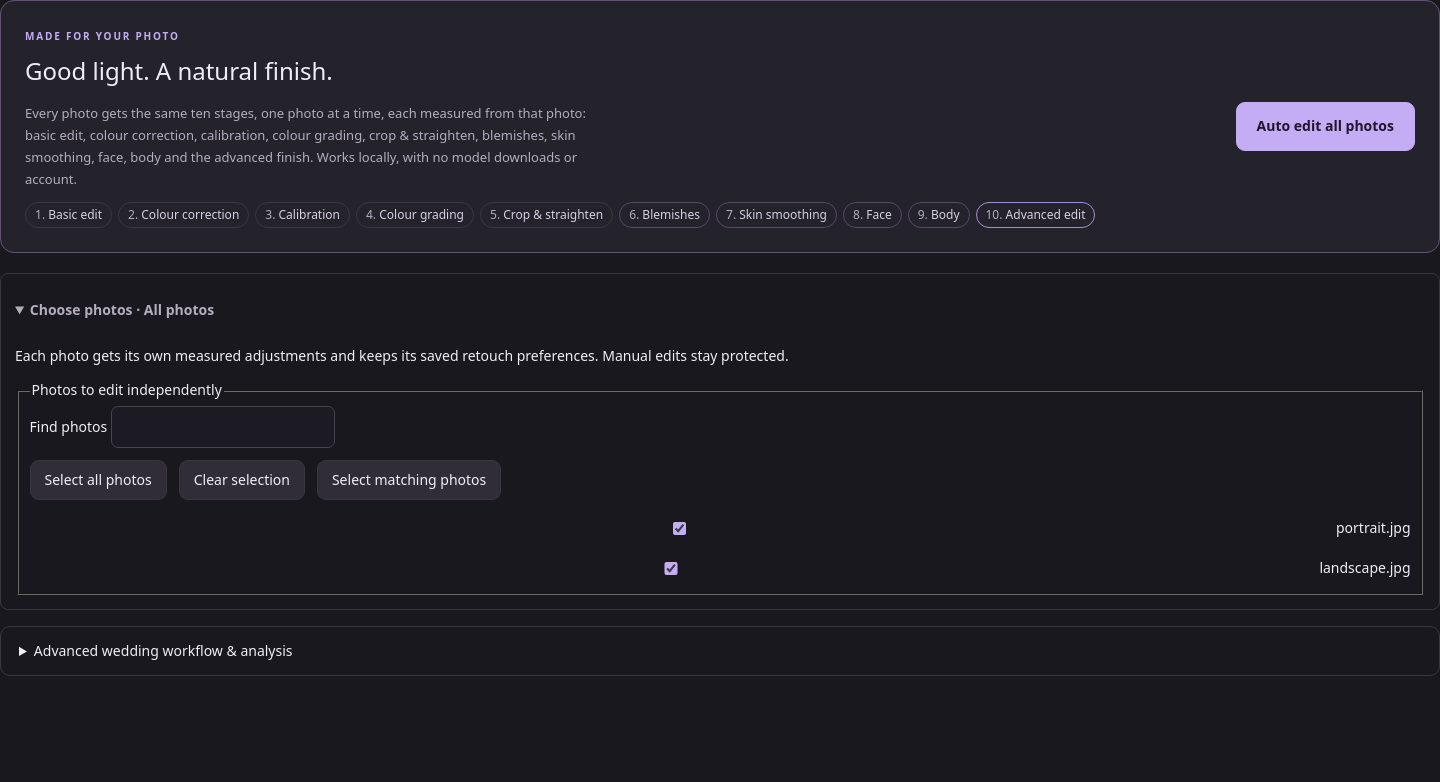
Scenario: sends the selected photo IDs to editing and prevents an empty batch
Click the checkbox labelled "portrait.jpg".
click(679, 528)  # box left=34, top=522, right=1325, bottom=535
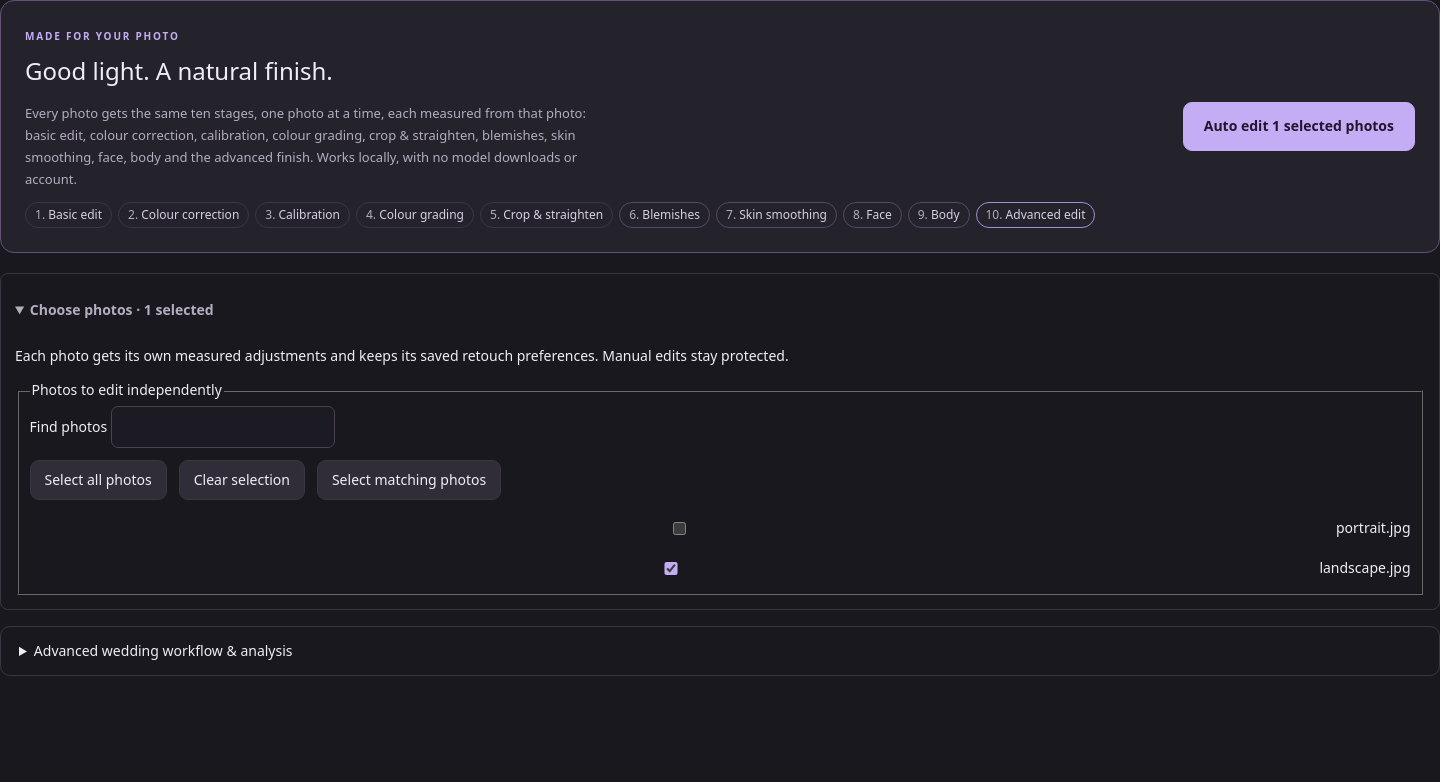
Click the button "Auto edit 1 selected photos".
click(1299, 126)  # box left=1183, top=102, right=1415, bottom=151
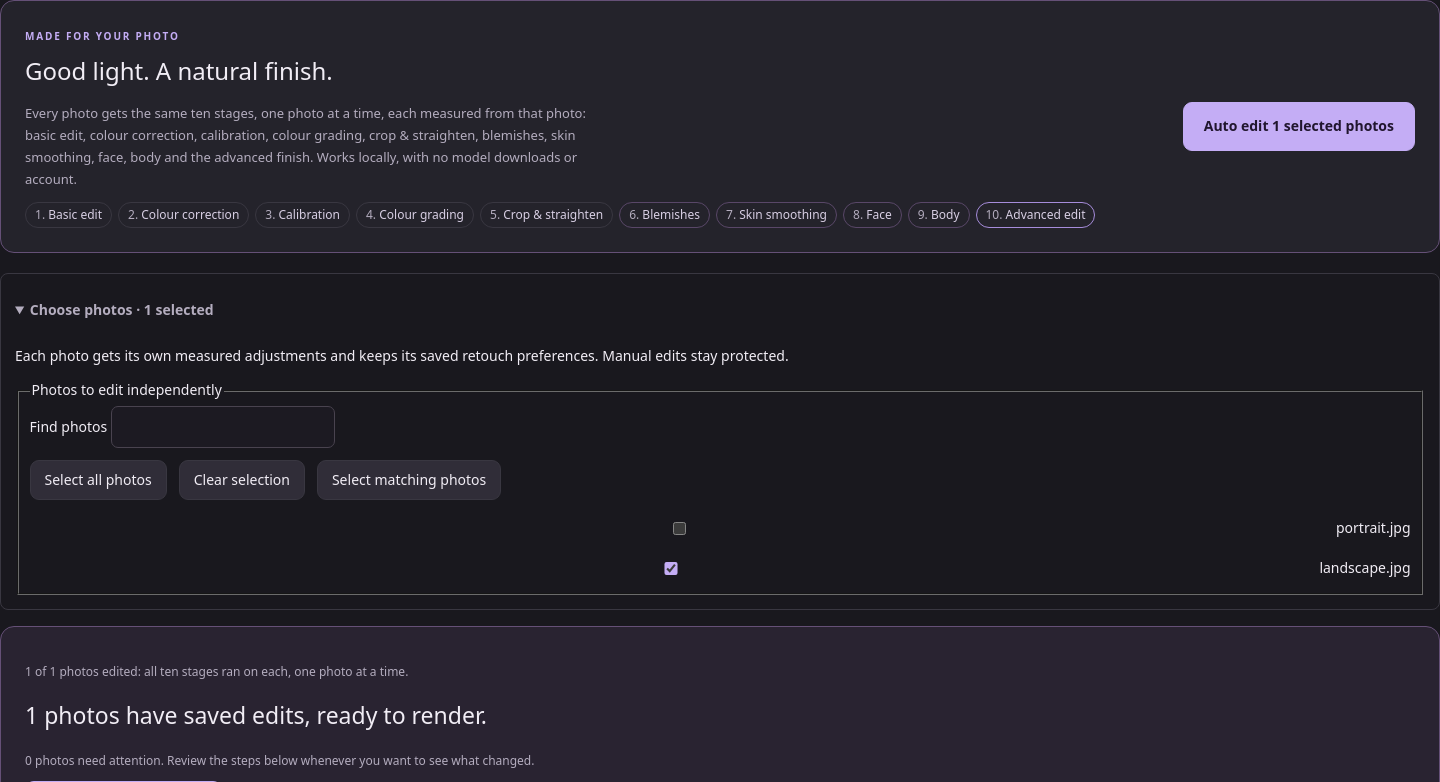
expect the heading "1 photos have saved edits, ready to render." is shown: met, box left=25, top=700, right=487, bottom=732
Click the button "Clear selection".
click(242, 480)  # box left=179, top=460, right=305, bottom=500
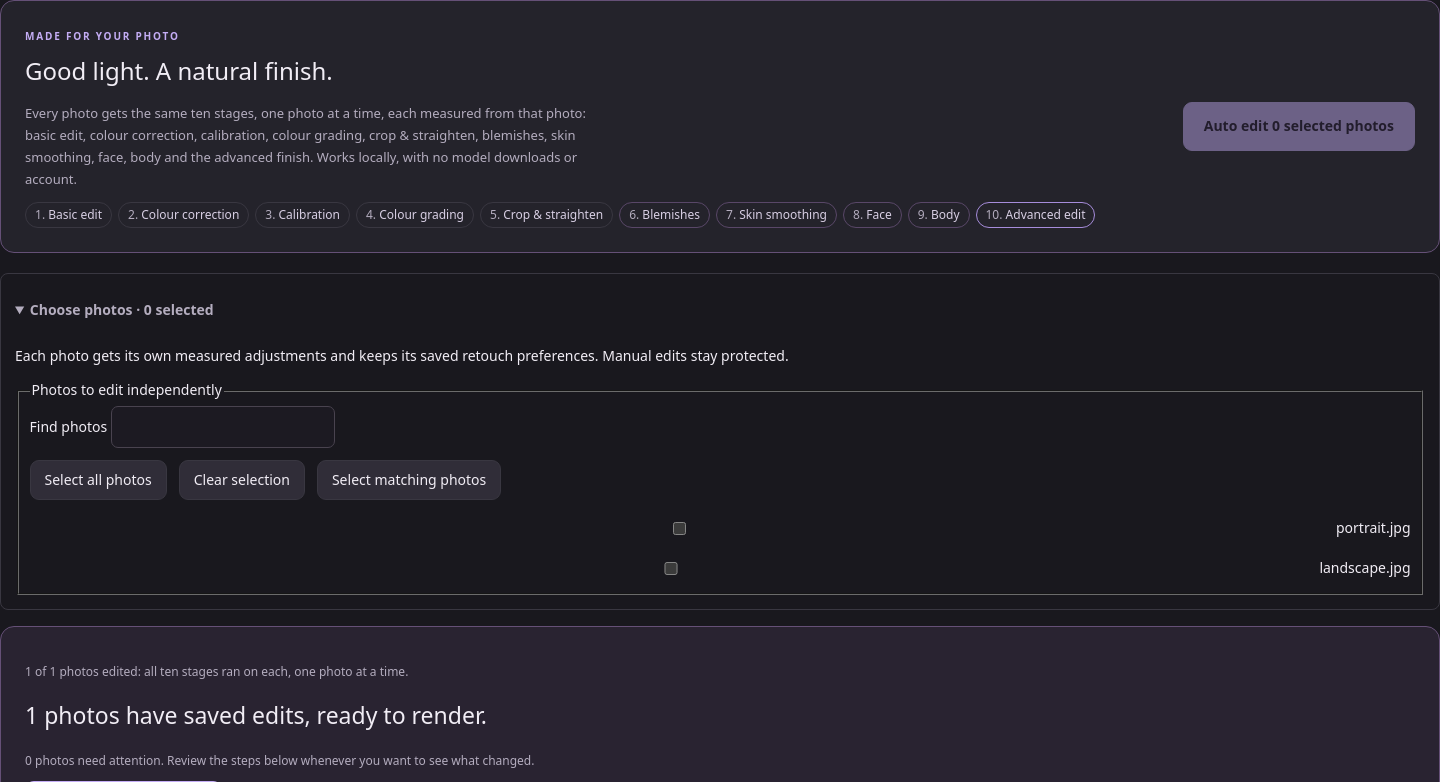
expect the button "Auto edit 0 selected photos" is disabled: met, box left=1183, top=102, right=1415, bottom=151
